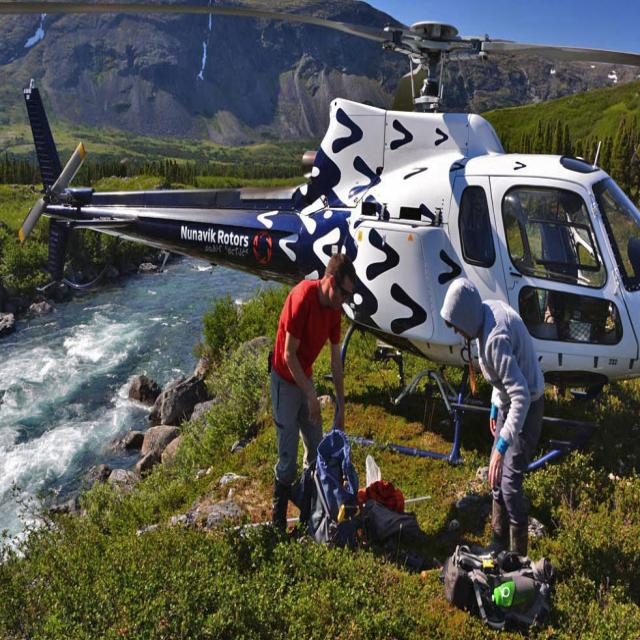helicopter: (3, 2, 640, 494)
